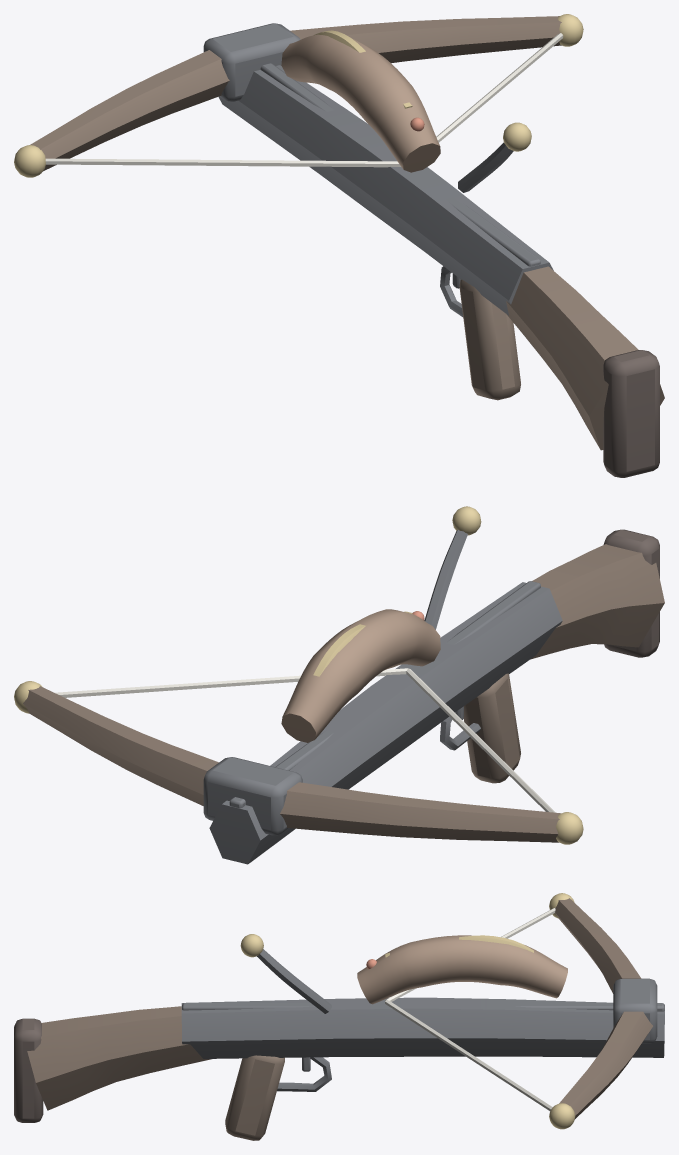
The model's file is Bow_Rapid.glb.
3 views of the same model, one above another, from view 1: azimuth 30°, elevation 25°; view 2: azimuth 150°, elevation 25°; view 3: azimuth 270°, elevation 25° (orthographic). The views are drawn at different scales.
Parts seen in each view (by area): view 1: sweep, sweep.001, sweep.005, sweep.004, sweep.003, Cube.001, Cube.002, Cube.004, Cylinder.001, Cube, Cylinder, sweep.007 (+2 smaller); view 2: sweep, sweep.004, sweep.001, sweep.005, sweep.003, Cube.004, Cube.002, Cube.001, Cube, Cylinder, Cylinder.001, sweep.007 (+4 smaller); view 3: sweep, sweep.001, sweep.005, Cube.002, sweep.003, sweep.004, Cube.001, Cube.004, Cube, Cylinder, sweep.007, sweep.002 (+4 smaller).
Boxes of the visible parts, left/top/right/bottom form: sweep: left=218, top=65, right=553, bottom=315; sweep.001: left=506, top=266, right=664, bottom=450; sweep.005: left=281, top=34, right=440, bottom=172; sweep.004: left=30, top=50, right=229, bottom=171; sweep.003: left=290, top=16, right=561, bottom=63; Cube.001: left=603, top=350, right=659, bottom=477; Cube.002: left=459, top=279, right=520, bottom=400; Cube.004: left=203, top=23, right=300, bottom=101; Cylinder.001: left=45, top=158, right=401, bottom=167; Cube: left=260, top=63, right=540, bottom=266; Cylinder: left=436, top=33, right=563, bottom=142; sweep.007: left=458, top=142, right=513, bottom=192; sweep: left=209, top=582, right=562, bottom=864; sweep.004: left=280, top=782, right=560, bottom=842; sweep.001: left=530, top=544, right=664, bottom=659; sweep.005: left=281, top=609, right=440, bottom=742; sweep.003: left=23, top=686, right=218, bottom=805; Cube.004: left=203, top=757, right=302, bottom=835; Cube.002: left=463, top=673, right=520, bottom=783; Cube.001: left=603, top=529, right=659, bottom=657; Cube: left=229, top=581, right=540, bottom=808; Cylinder: left=54, top=668, right=407, bottom=697; Cylinder.001: left=406, top=668, right=555, bottom=812; sweep.007: left=424, top=530, right=467, bottom=629; sweep: left=181, top=997, right=664, bottom=1058; sweep.001: left=27, top=1006, right=211, bottom=1110; sweep.005: left=357, top=935, right=567, bottom=1004; Cube.002: left=225, top=1055, right=284, bottom=1140; sweep.003: left=559, top=1011, right=652, bottom=1119; sweep.004: left=555, top=898, right=641, bottom=993; Cube.001: left=14, top=1018, right=43, bottom=1122; Cube.004: left=613, top=978, right=657, bottom=1043; Cube: left=182, top=1003, right=664, bottom=1011; Cylinder: left=385, top=1000, right=552, bottom=1110; sweep.007: left=257, top=949, right=331, bottom=1013; sweep.002: left=277, top=1057, right=331, bottom=1091.
Bounding box in the file's own units: 0.358 × 0.1607 × 0.4453.
